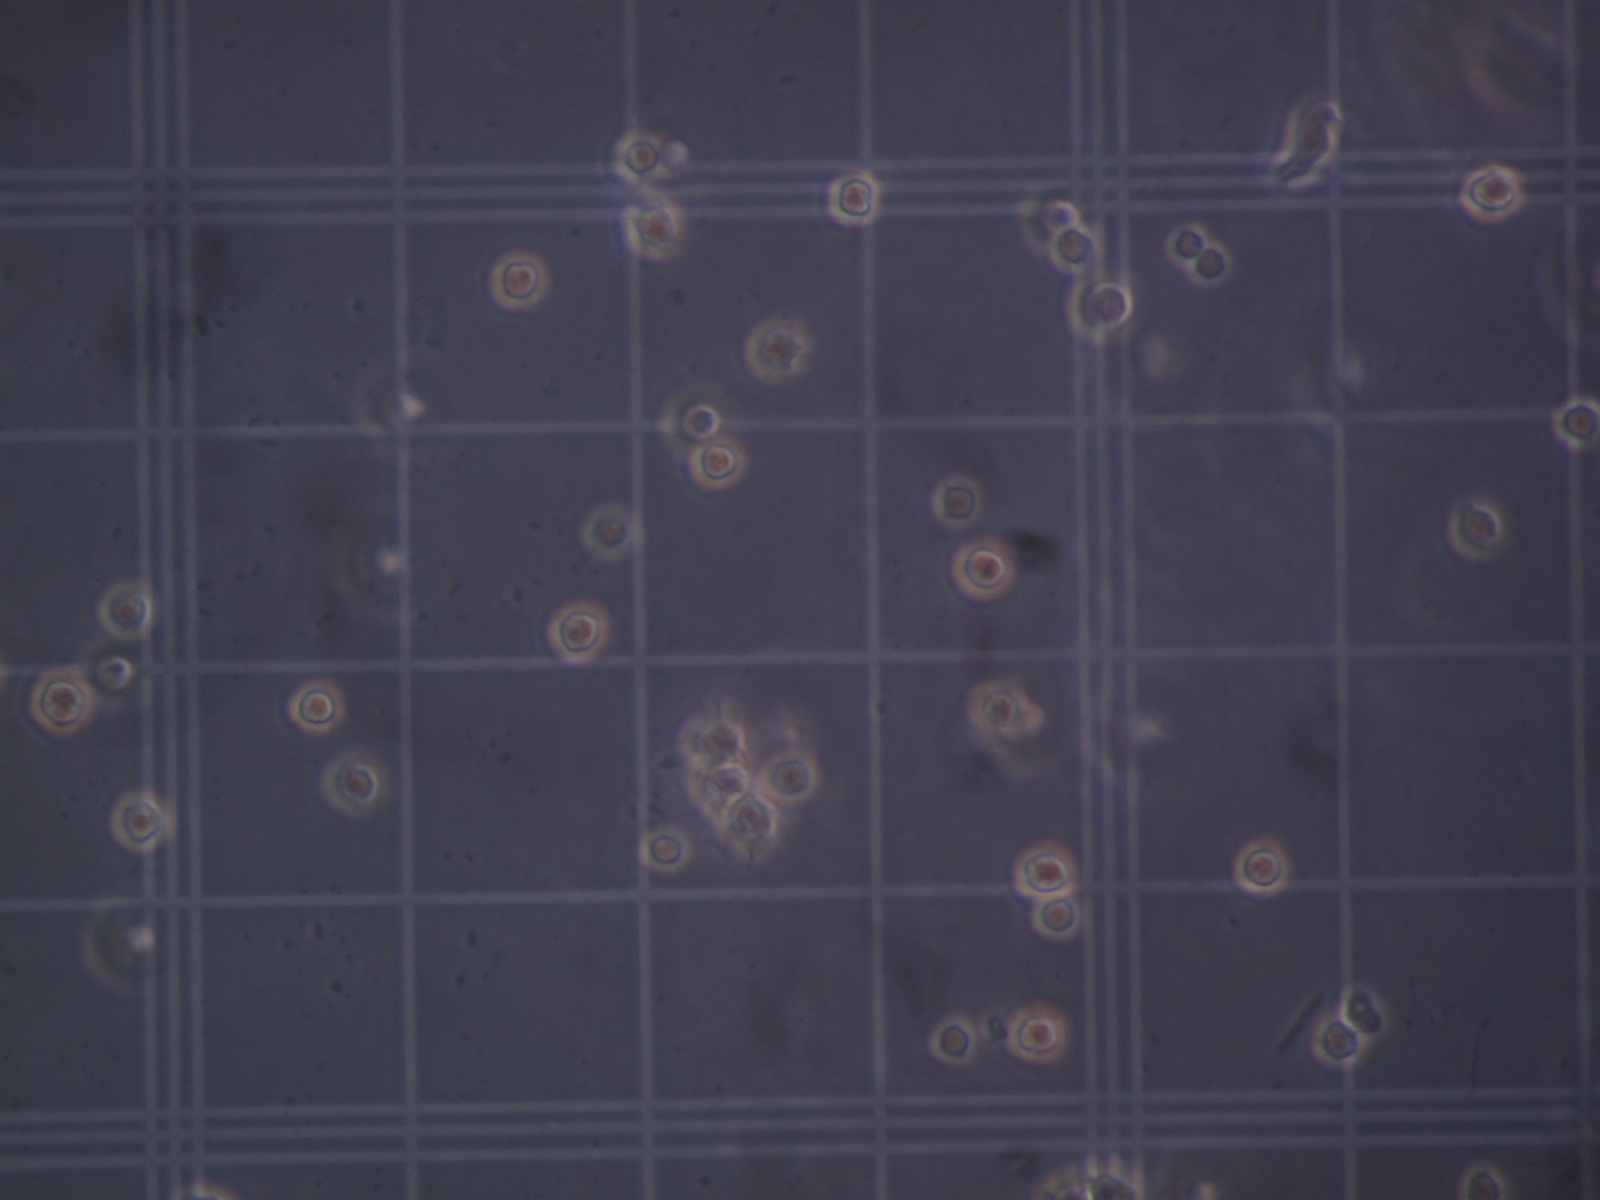hemo: (1015, 182, 1082, 255), (1066, 274, 1134, 344), (71, 639, 134, 713), (658, 388, 723, 458), (30, 669, 94, 736), (745, 316, 808, 384), (547, 601, 609, 664), (320, 753, 380, 817), (951, 538, 1015, 599), (621, 199, 683, 261), (678, 713, 748, 766), (719, 793, 781, 852), (1460, 164, 1522, 223), (488, 251, 549, 310), (966, 679, 1029, 737), (1448, 498, 1506, 561), (110, 792, 169, 852), (1013, 843, 1077, 899), (1007, 1005, 1067, 1063), (96, 581, 154, 640), (580, 502, 636, 560), (687, 763, 753, 811), (688, 437, 747, 490), (1233, 839, 1289, 895), (761, 751, 818, 805), (289, 679, 345, 734), (826, 170, 879, 226), (931, 474, 981, 529), (1313, 1016, 1364, 1066), (1552, 396, 1600, 450), (614, 132, 664, 183), (929, 1015, 976, 1066), (1340, 986, 1387, 1039), (639, 826, 690, 872), (1049, 228, 1099, 274), (1031, 896, 1081, 940), (1164, 222, 1208, 268), (1083, 1170, 1143, 1200), (1189, 245, 1231, 287), (1459, 1163, 1507, 1200), (163, 1185, 238, 1200)
